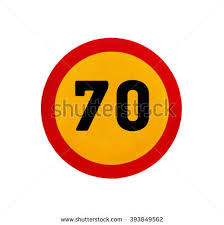Speed_limit_70km: (40, 37, 182, 178)
